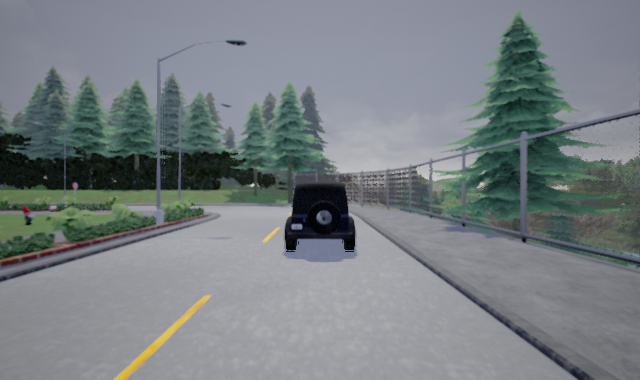vehicle: (284, 180, 358, 254)
